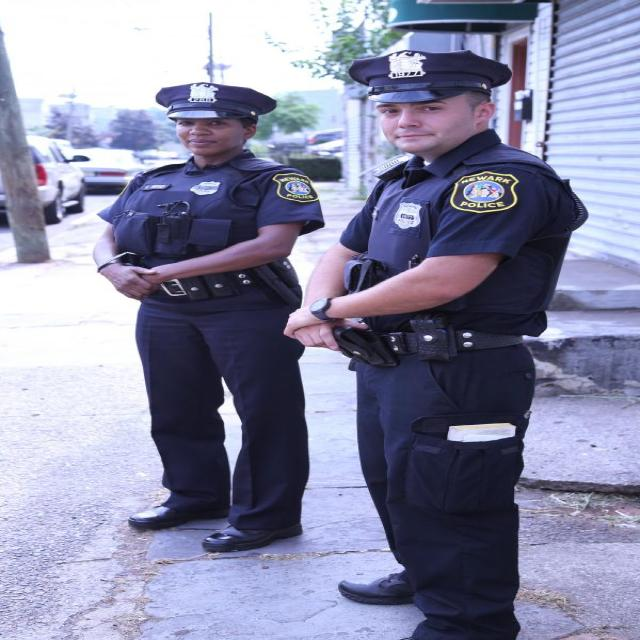police: (328, 26, 582, 640), (83, 69, 317, 567)
